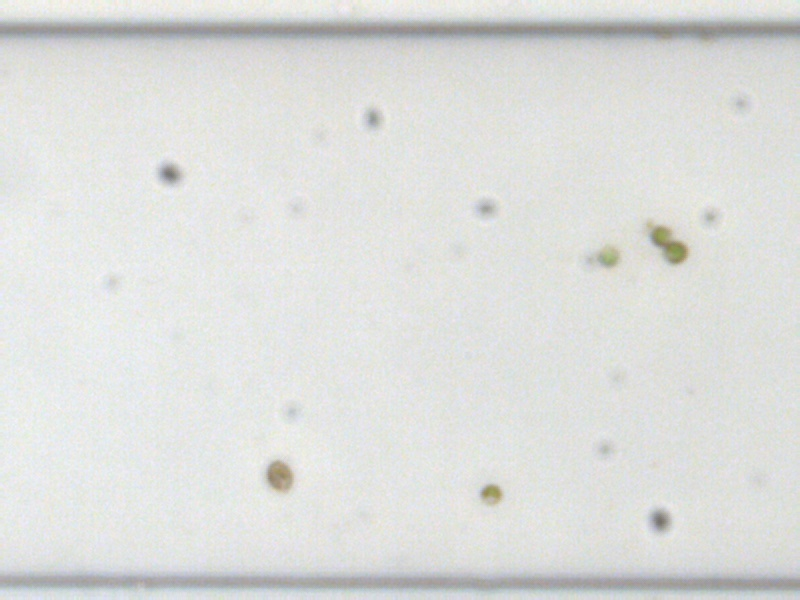Chlorella: (662, 240, 686, 265), (649, 223, 673, 247), (597, 244, 618, 268), (477, 482, 501, 502)
Dunaliella salina: (265, 457, 295, 492)
